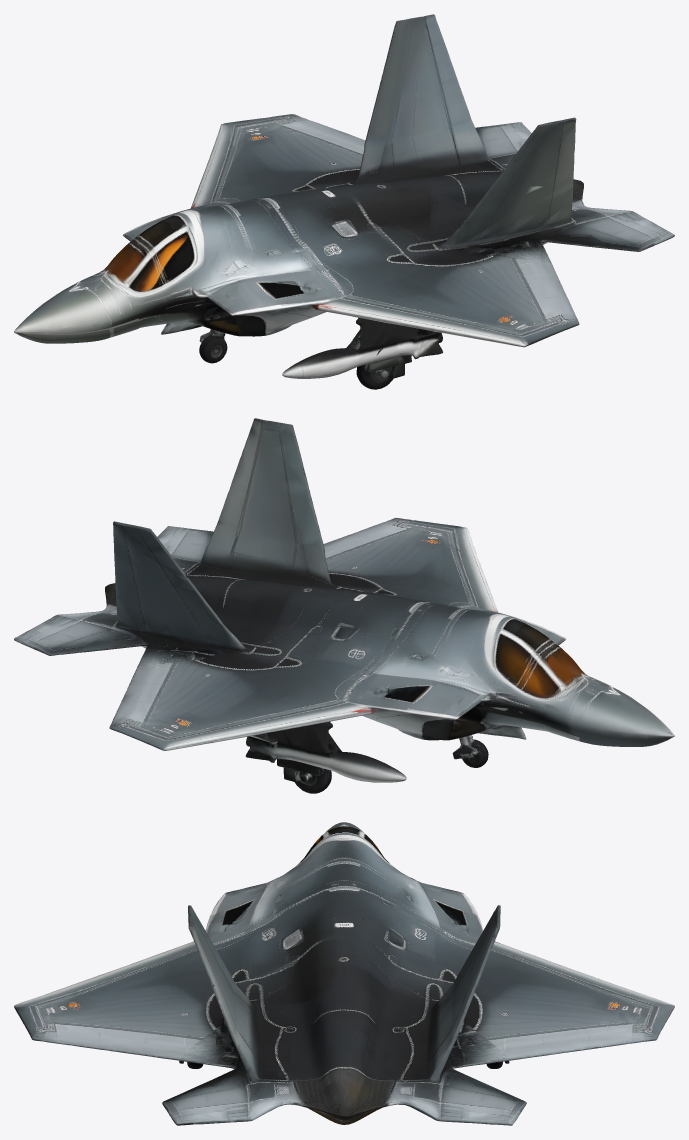
3 renders of one model, top to bottom at view 1: azimuth 30°, elevation 25°; view 2: azimuth 150°, elevation 25°; view 3: azimuth 270°, elevation 25°, orthographic. The views are drawn at different scales.
Bounding box in the file's own units: 1.91 × 0.7114 × 1.72.
Materials: 1 (1 with a texture image).
